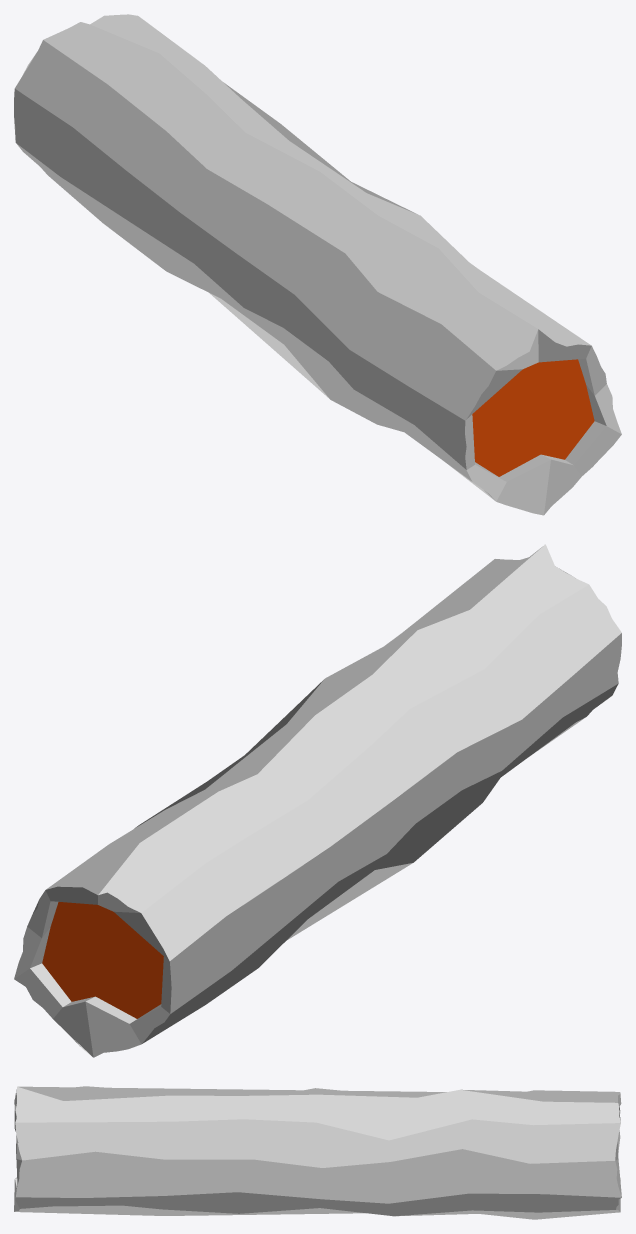
The model's file is Log.fbx.
The picture shows the model from 3 angles, top to bottom: view 1: azimuth 30°, elevation 25°; view 2: azimuth 150°, elevation 25°; view 3: azimuth 270°, elevation 25°; orthographic projection. The views are drawn at different scales.
Parts seen in each view (by area): view 1: Cylinder; view 2: Cylinder; view 3: Cylinder.
Part boxes in pixels (box(x1,y1,x2,y2)): Cylinder: box(14, 14, 621, 515); Cylinder: box(14, 544, 621, 1057); Cylinder: box(14, 1086, 621, 1219).
Bounding box in the file's own units: 230 × 237 × 1014.
